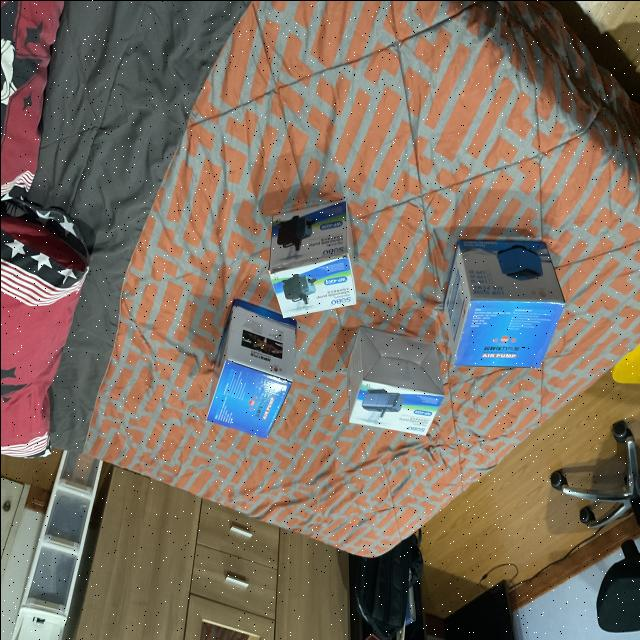SOBO_WP_4200: (246, 190, 362, 318), (341, 316, 443, 452)
YAMANO_LPP_20: (441, 224, 569, 387), (196, 296, 301, 456)
